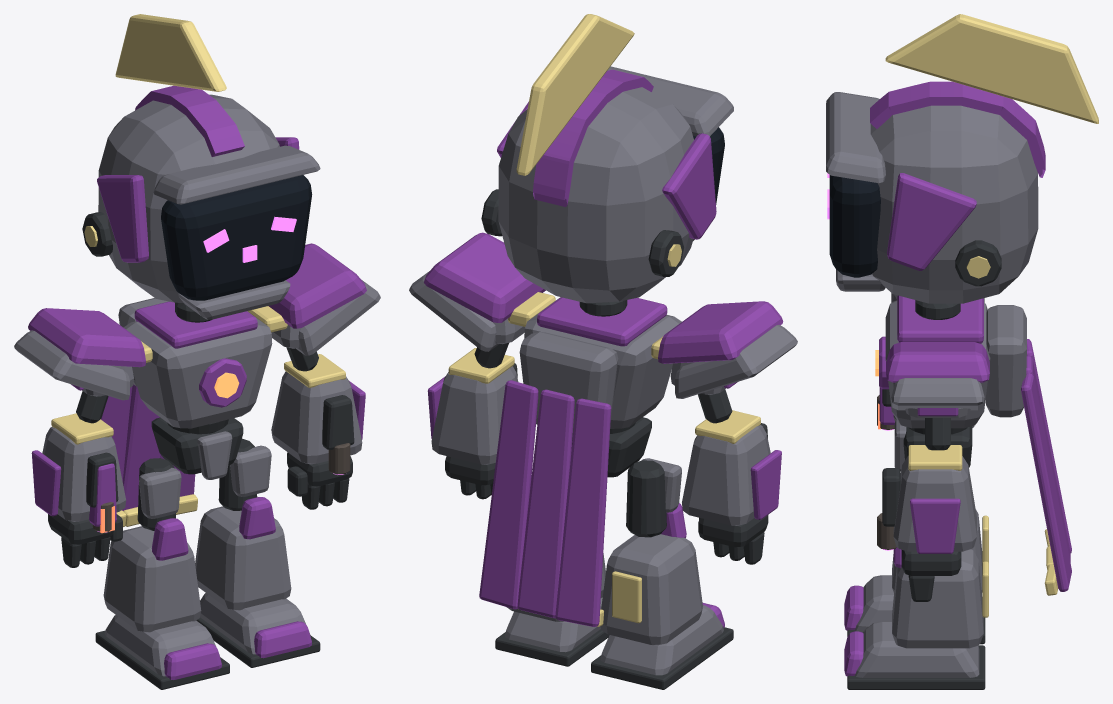
The model's file is guardiao.glb.
3 renders of one model, left to right at view 1: azimuth 30°, elevation 25°; view 2: azimuth 150°, elevation 25°; view 3: azimuth 270°, elevation 25°, orthographic. The views are drawn at different scales.
Parts seen in each view (by area): view 1: visor, cabeca_p, tronco_p, bota.001, bota, pluma, testa, ombreira.002, antebraco, ombreira, antebraco.001, placa_lado.001 (+35 smaller); view 2: cabeca_p, capa, capa.001, capa.002, bota.001, pluma, antebraco.001, ombreira, mochila, antebraco, ombreira.002, tronco_p (+25 smaller); view 3: cabeca_p, pluma, bota, placa_lado, visor, crista, pe, testa, antebraco, mochila, ombreira, capa.002 (+22 smaller).
Part boxes in pixels (box(x1,y1,x2,y2)): visor: box(161, 175, 312, 300); cabeca_p: box(98, 94, 279, 303); tronco_p: box(123, 311, 272, 428); bota.001: box(103, 526, 201, 632); bota: box(195, 506, 291, 610); pluma: box(115, 14, 226, 91); testa: box(153, 145, 320, 204); ombreira.002: box(28, 308, 145, 367); antebraco: box(271, 371, 362, 464); ombreira: box(268, 243, 366, 328); antebraco.001: box(42, 427, 126, 521); placa_lado.001: box(97, 175, 148, 262); cabeca_p: box(498, 87, 693, 303); capa: box(555, 398, 611, 626); capa.001: box(517, 389, 574, 618); capa.002: box(479, 380, 538, 609); bota.001: box(600, 534, 702, 645); pluma: box(516, 14, 634, 175); antebraco.001: box(682, 425, 770, 525); ombreira: box(424, 232, 545, 322); mochila: box(519, 332, 618, 432); antebraco: box(431, 366, 518, 464); ombreira.002: box(658, 301, 783, 363); tronco_p: box(524, 297, 681, 428); cabeca_p: box(870, 105, 1038, 303); pluma: box(885, 14, 1098, 123); bota: box(892, 549, 983, 648); placa_lado: box(887, 173, 976, 270); visor: box(829, 175, 880, 277); crista: box(870, 81, 1045, 177); pe: box(854, 621, 979, 677); testa: box(826, 92, 885, 183); antebraco: box(893, 456, 976, 551); mochila: box(985, 305, 1026, 417); ombreira: box(886, 342, 989, 382); capa.002: box(1021, 373, 1071, 591).
Size of the model in its own units: 0.7277 by 1.29 by 0.5038.
